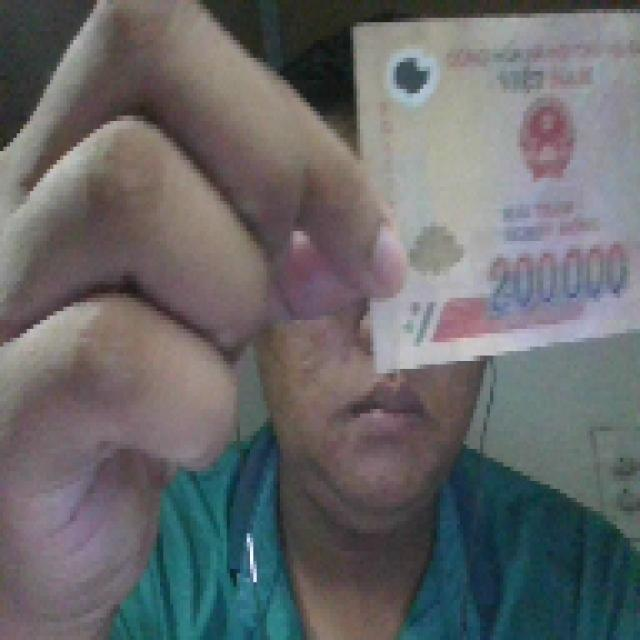200 000 VND: (346, 0, 636, 378)
